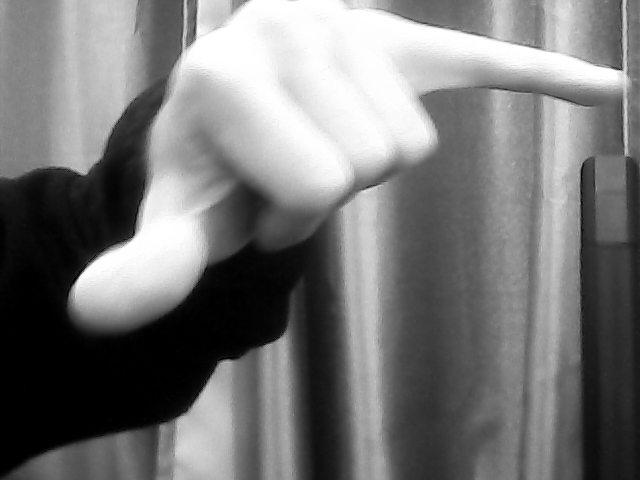aloha: (65, 1, 632, 343)
